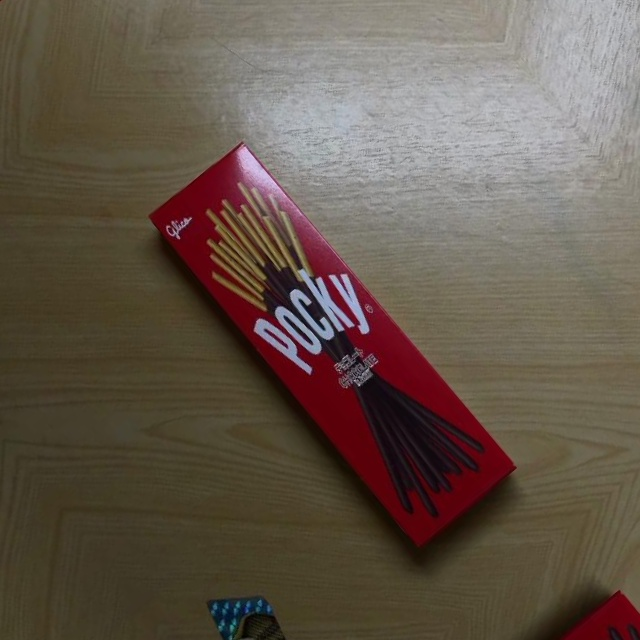Pocky: (144, 135, 519, 548)
